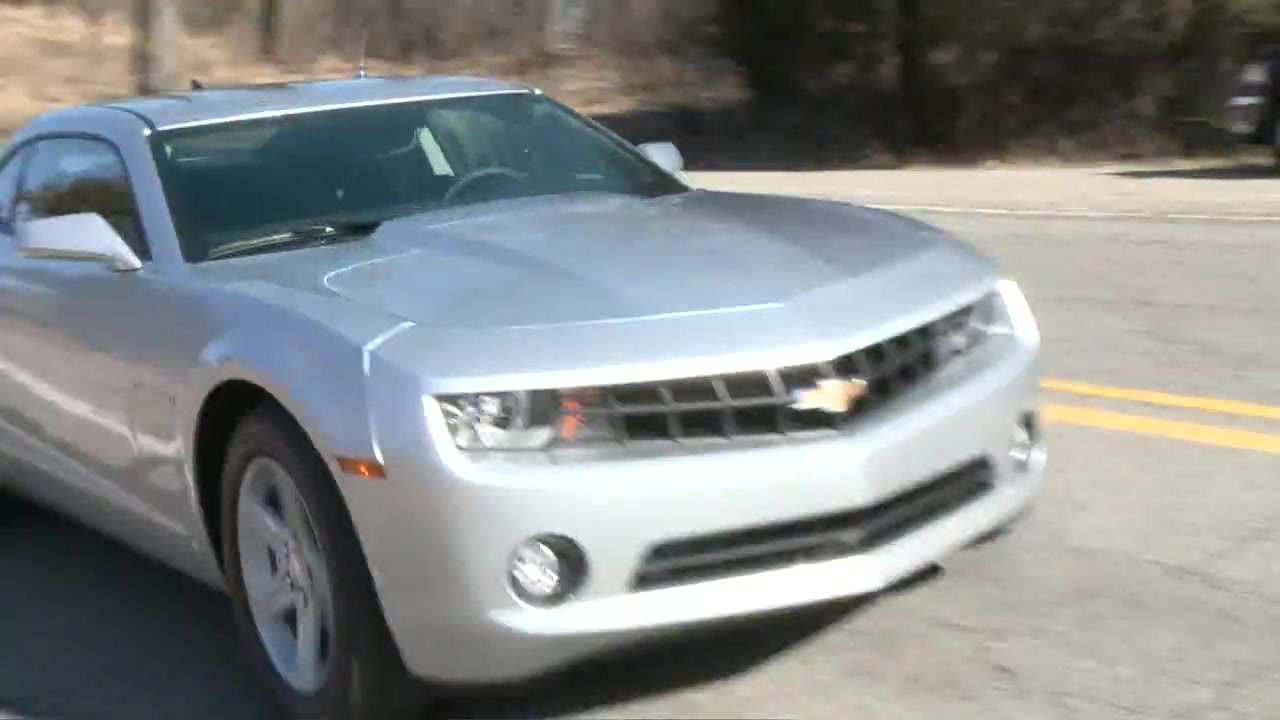car: (1, 75, 1049, 720)
